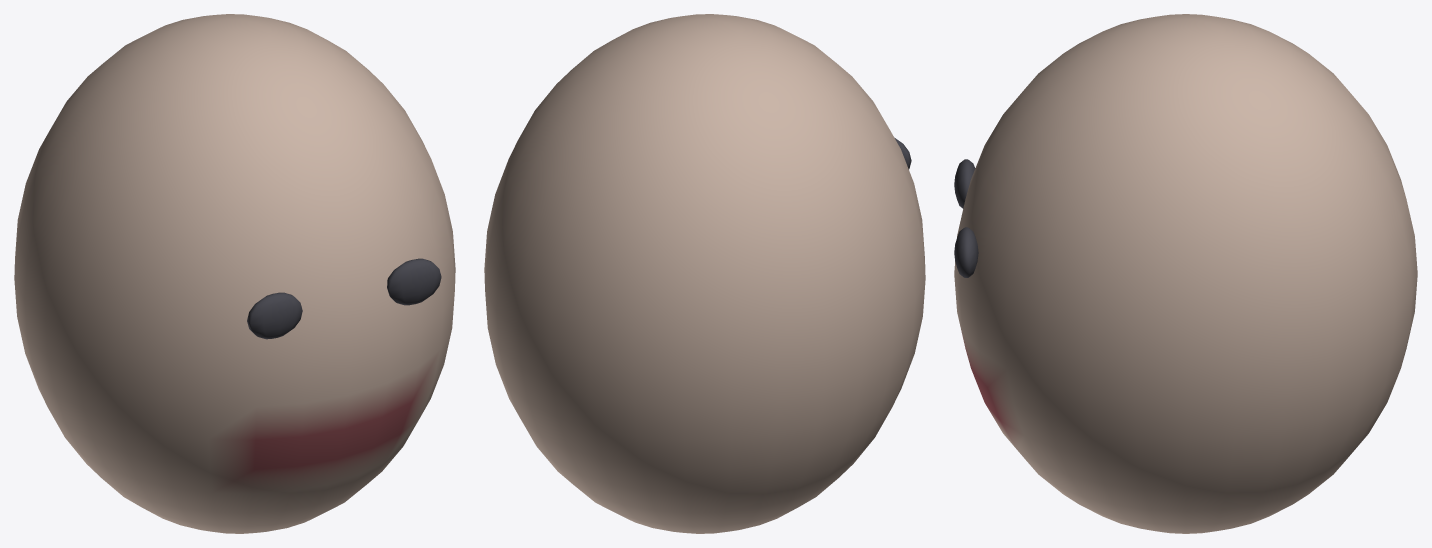
File: instructor.glb
3 views of the same model, side by side, from view 1: azimuth 30°, elevation 25°; view 2: azimuth 150°, elevation 25°; view 3: azimuth 270°, elevation 25° (orthographic).
Visible parts, largest first — view 1: Head; view 2: Head; view 3: Head.
Part boxes in pixels (left/top/right/bottom): Head: left=14, top=14, right=455, bottom=533; Head: left=484, top=14, right=925, bottom=533; Head: left=954, top=14, right=1417, bottom=533.
Bounding box in the file's own units: 1.8 × 2.2 × 1.9.
